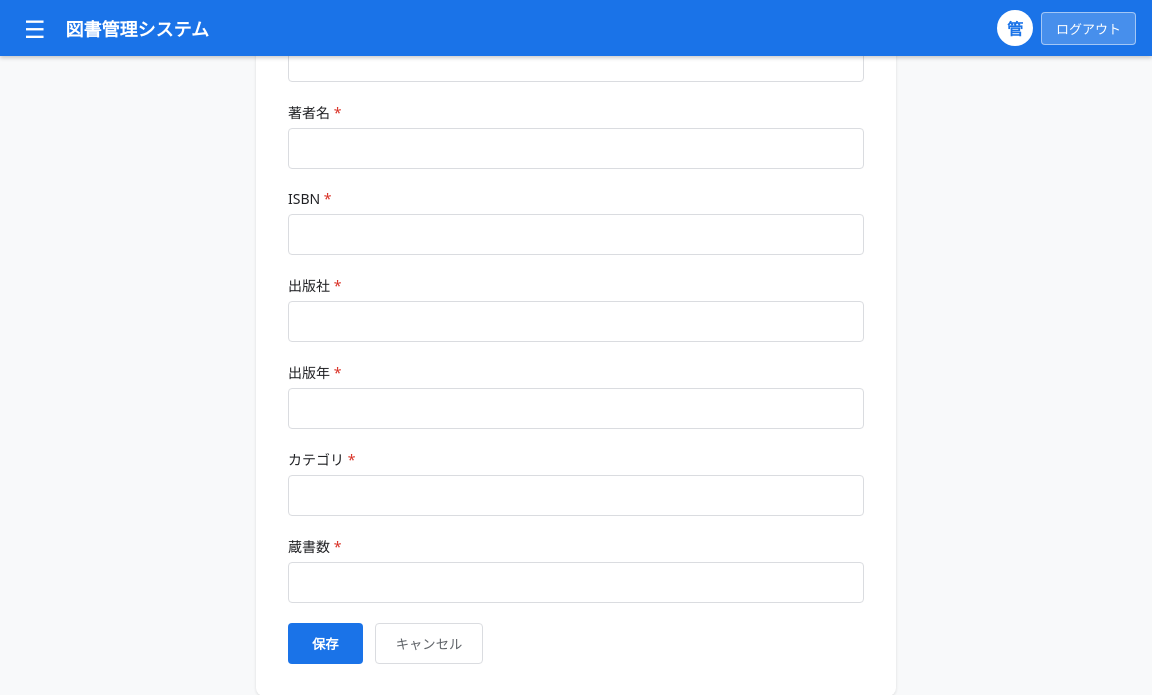
Test case: BookFormPage › shows validation errors when submitting empty form
This screenshot has width=1152, height=695.
(page scrolled)
Step 1. Click the button "保存" → point(325, 644), box [288,623,363,664]
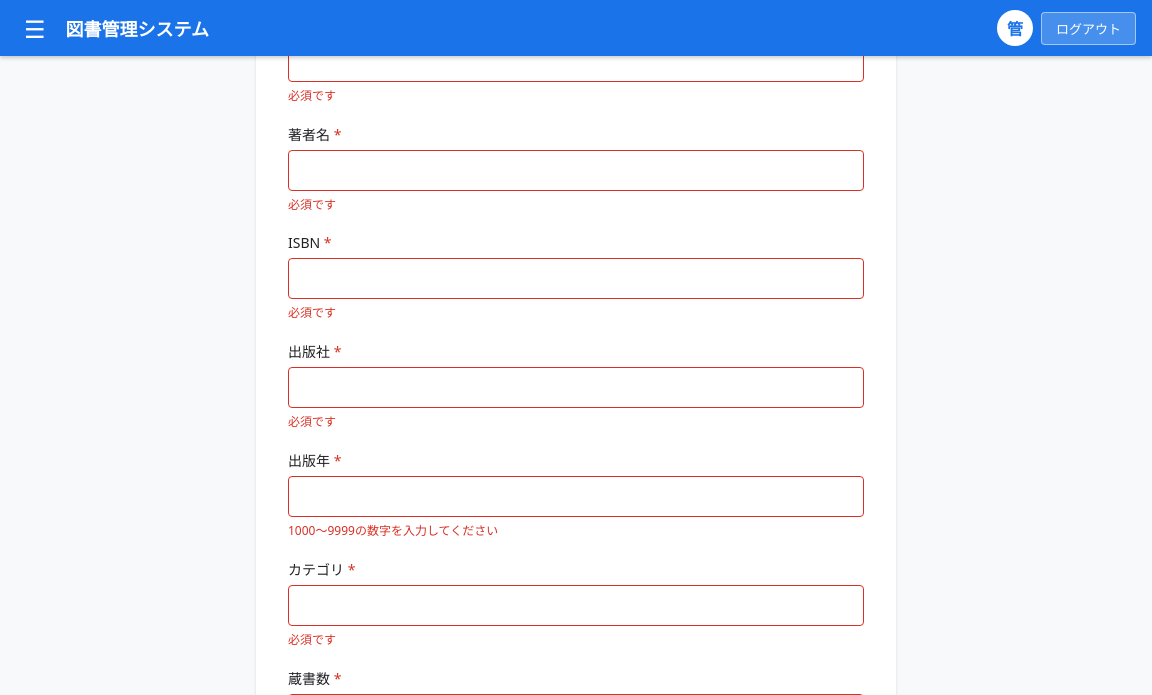
expect the text "必須です" below "タイトル" is shown: met, box [288,87,336,104]
